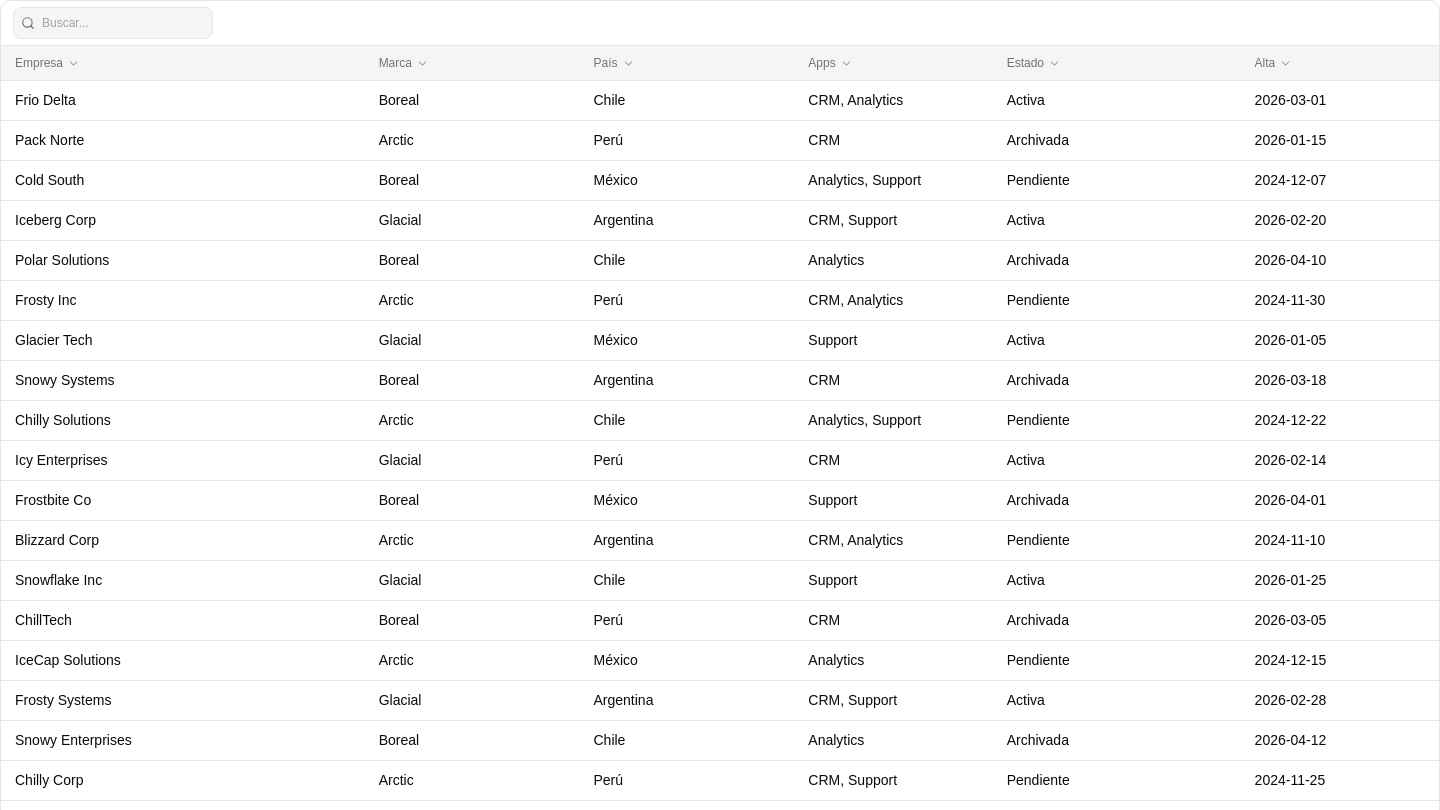
Test case: sorts from the column menu and marks the active direction
Click the button "Empresa" at (39, 63), box 15,54 -> 351,72
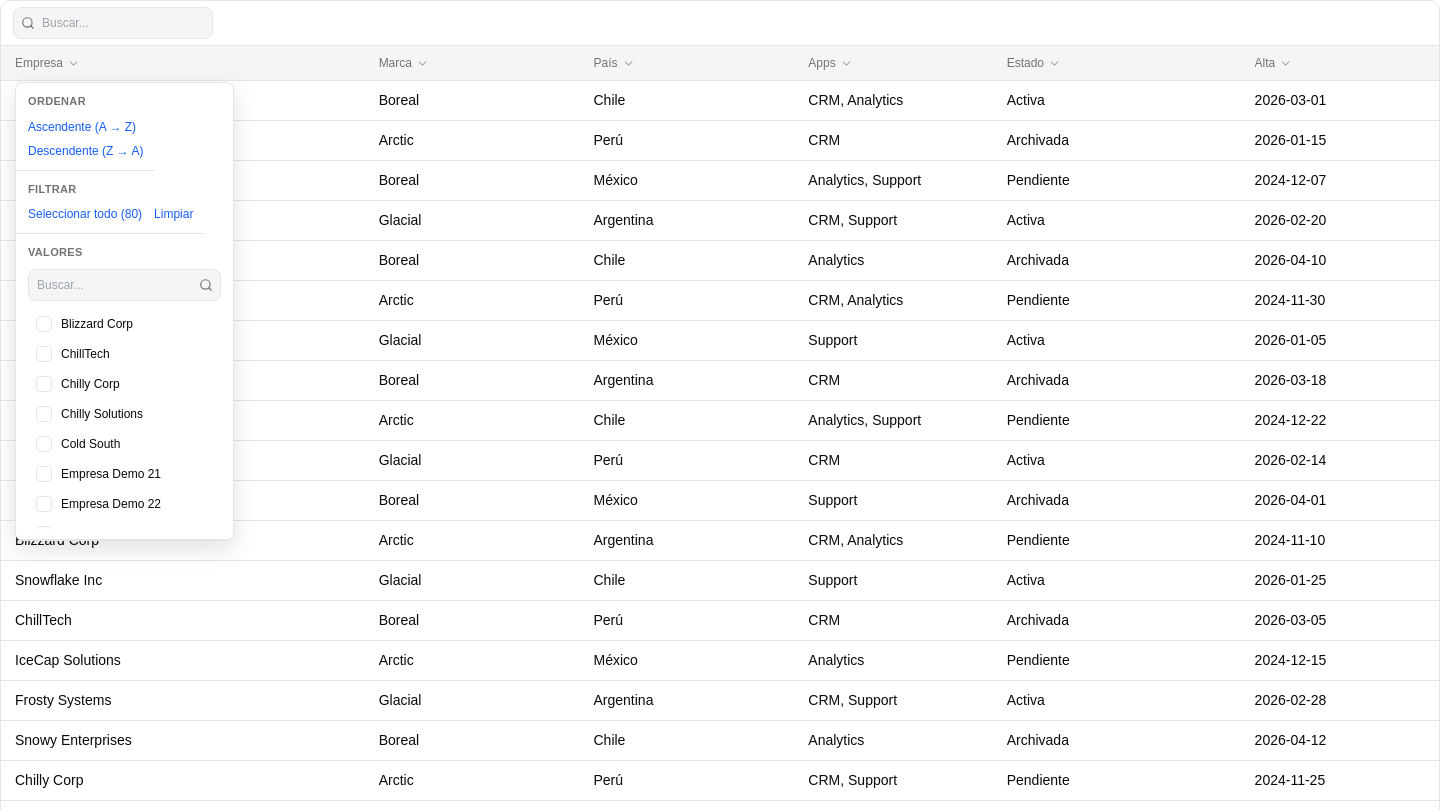
Click the button "Ascendente (A → Z)" at (86, 126), box 28,118 -> 143,136
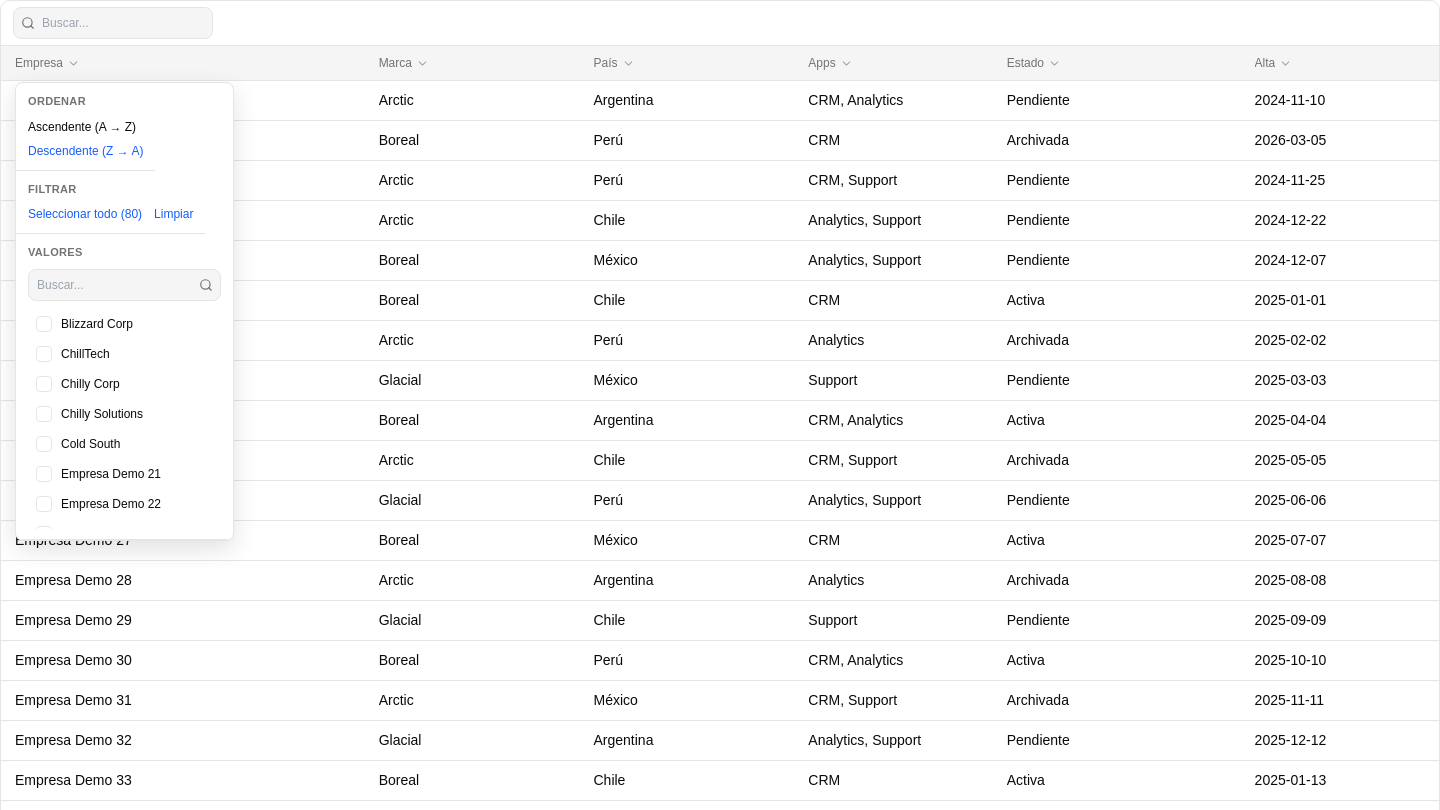
Expected: the text "Blizzard Corp" is shown, 61,314 -> 133,332
Click the button "Descendente (Z → A)" at (86, 150), box 28,142 -> 143,160
(page scrolled)
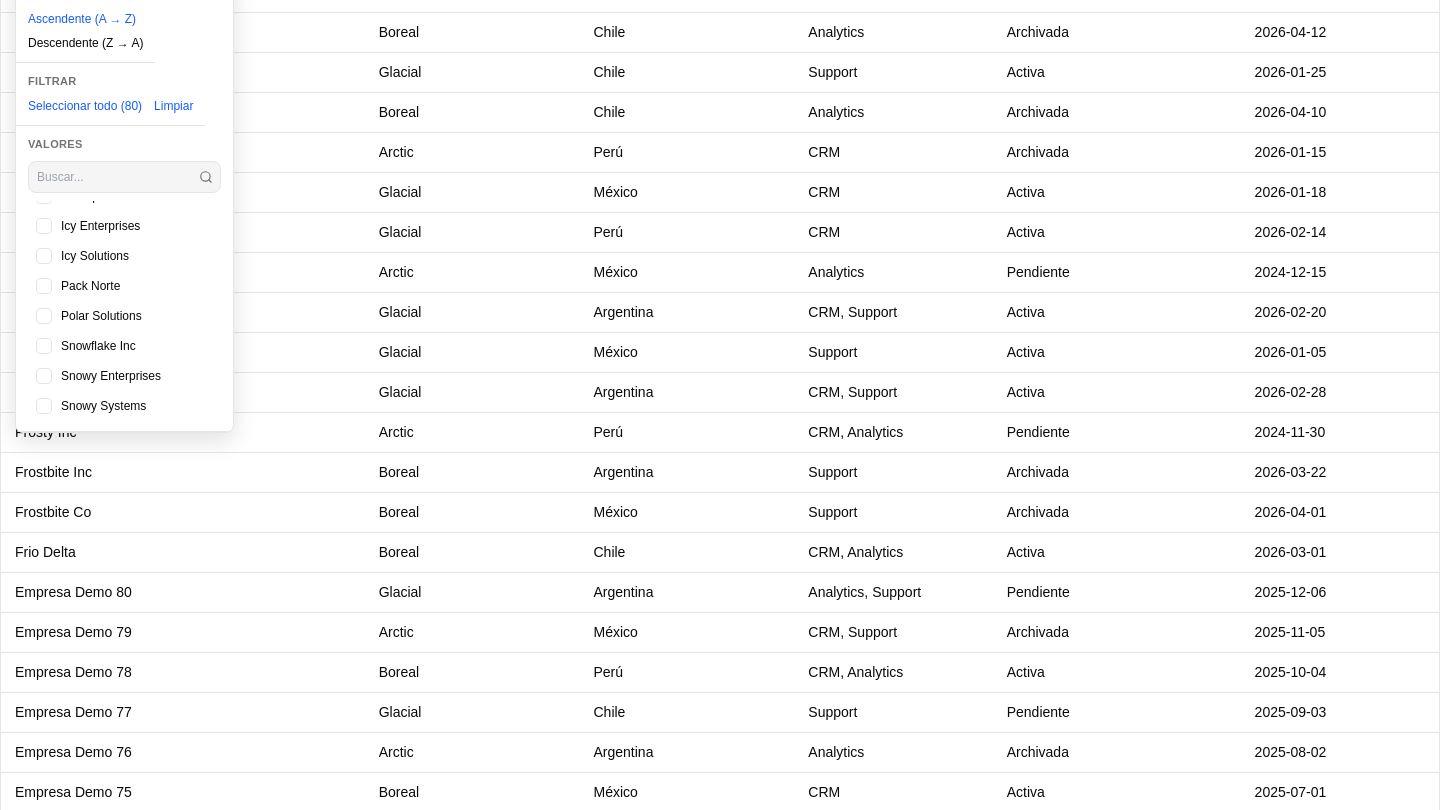
Expected: the text "Snowy Systems" is shown, 61,396 -> 146,414
